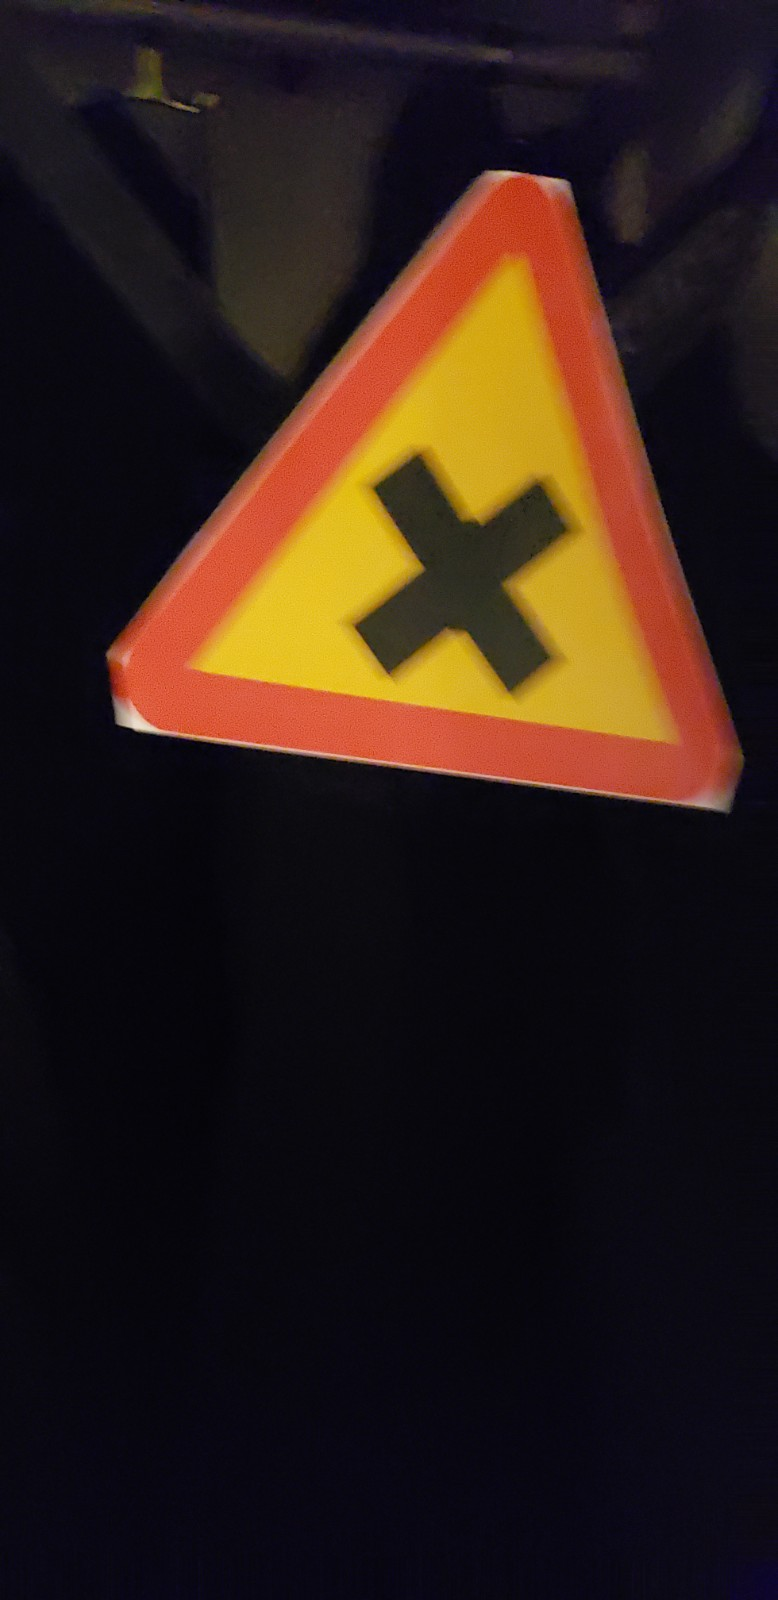junction: (65, 108, 757, 854)
